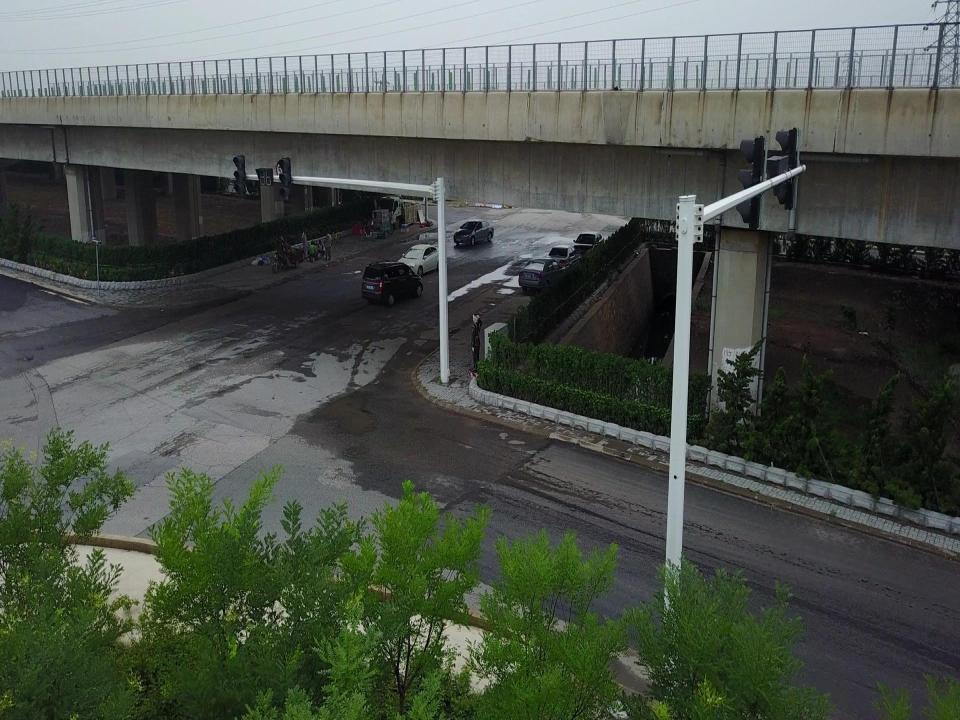car: (518, 257, 566, 292), (394, 245, 442, 277), (544, 244, 582, 278), (572, 232, 604, 265), (454, 219, 494, 245)
truck: (376, 195, 422, 228)
van: (361, 260, 423, 305)
